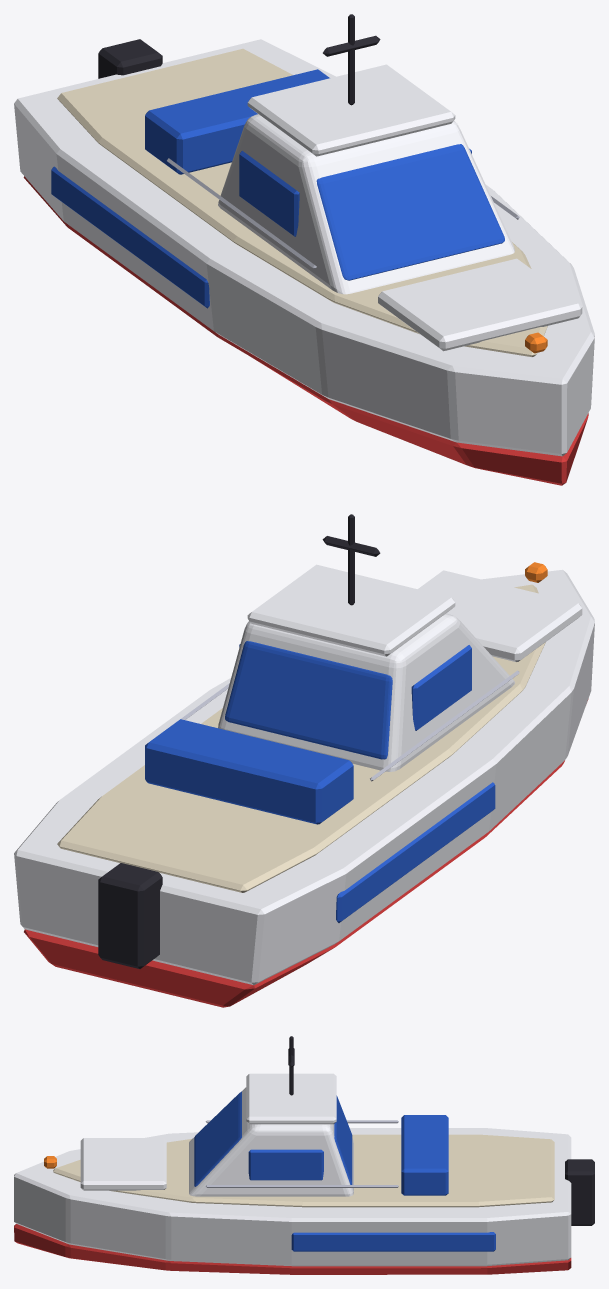
Rendered from speedboat.glb.
3 renders of one model, top to bottom at view 1: azimuth 30°, elevation 25°; view 2: azimuth 150°, elevation 25°; view 3: azimuth 270°, elevation 25°, orthographic. The views are drawn at different scales.
Visible parts, largest first — view 1: Speedboat; view 2: Speedboat; view 3: Speedboat.
Boxes of the visible parts, x1,y1,x2,y2 form: Speedboat: (14, 14, 594, 485); Speedboat: (14, 514, 594, 1007); Speedboat: (14, 1036, 594, 1274).
Bounding box in the file's own units: 1.02 × 1.06 × 2.7.
Materials: 1 (1 with a texture image).
